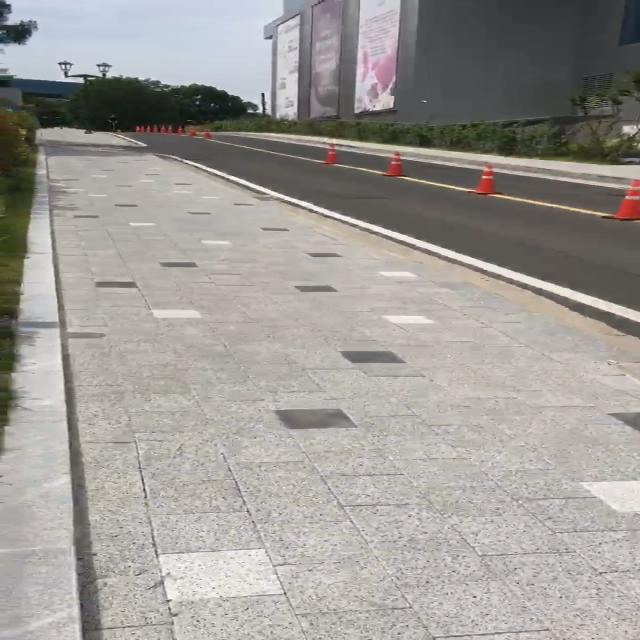obstacle: (601, 178, 640, 223), (458, 160, 504, 195), (373, 150, 409, 177), (313, 142, 345, 167)
road: (121, 130, 640, 356)
sidewalk: (0, 141, 640, 640), (295, 135, 640, 181), (39, 131, 135, 148)
